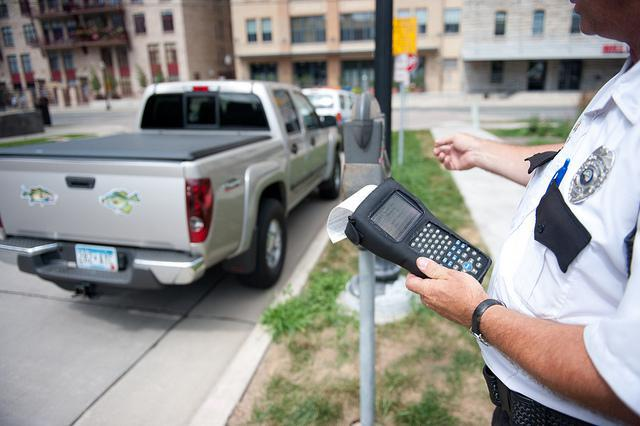hand: (405, 251, 513, 332), (438, 128, 517, 178)
